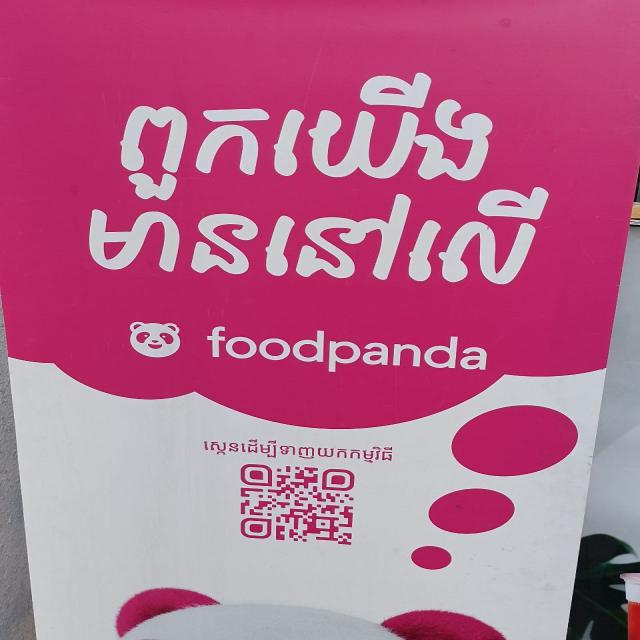Yolov11kh: (90, 69, 514, 206), (67, 179, 567, 295), (193, 431, 399, 470)
